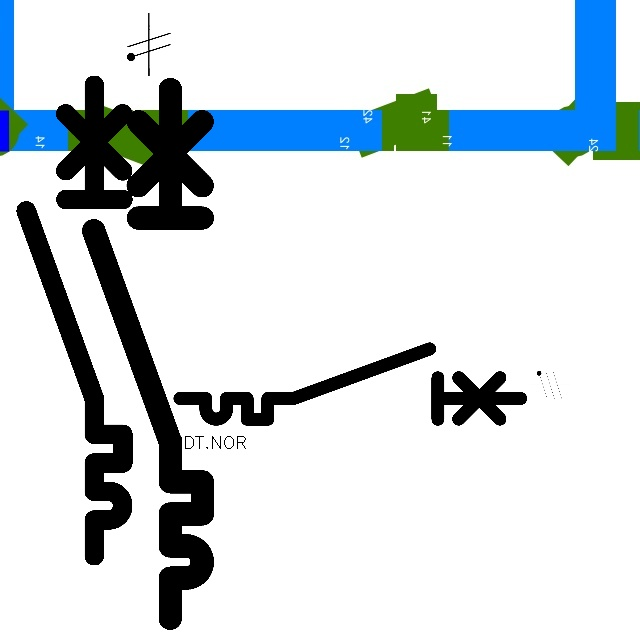interruptor_termomagnetico: (80, 75, 216, 631), (14, 73, 135, 568), (171, 340, 529, 428)
